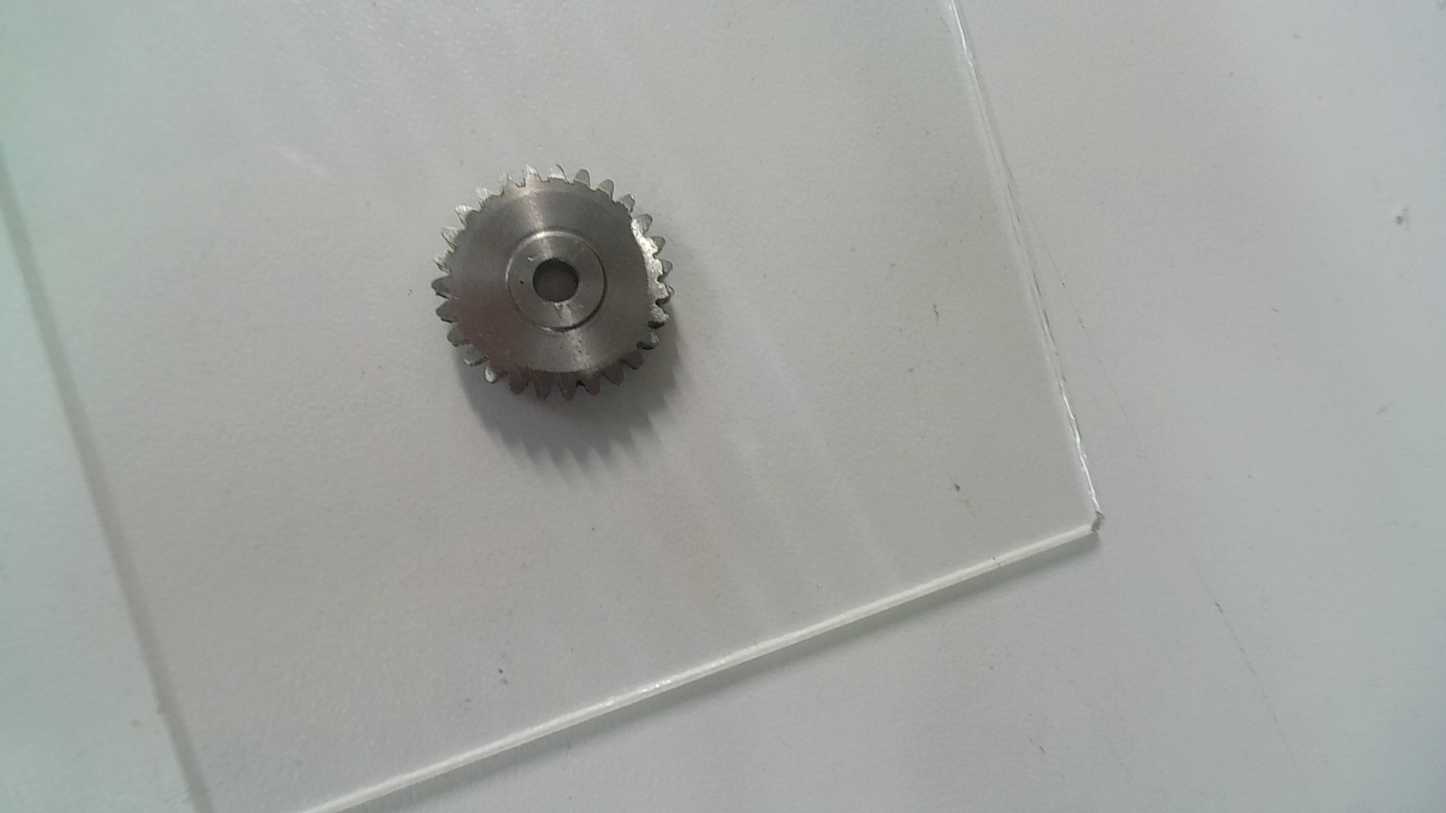gear: (429, 164, 683, 403)
